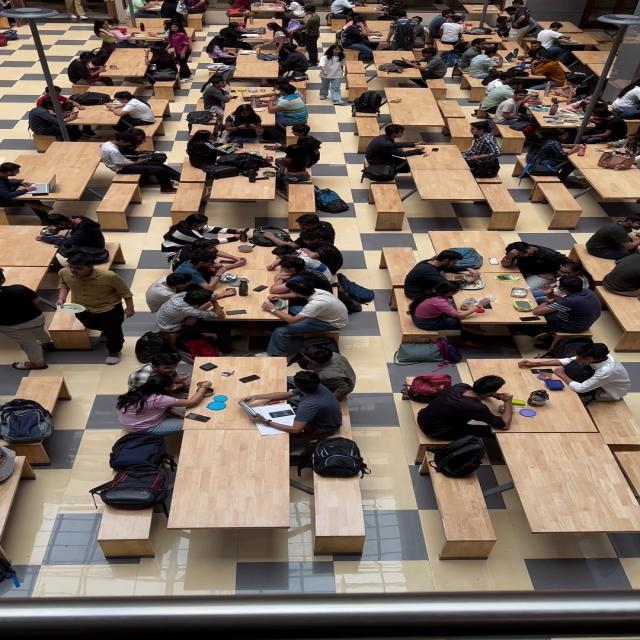Occupied: (162, 209, 375, 337), (157, 215, 373, 339), (395, 348, 640, 433), (125, 349, 362, 432), (411, 246, 609, 340), (400, 244, 606, 326), (40, 209, 141, 358), (316, 0, 451, 62), (421, 0, 582, 51), (188, 126, 334, 182), (182, 76, 318, 130), (358, 126, 506, 175), (83, 124, 185, 195), (28, 78, 161, 131), (525, 124, 640, 182), (0, 262, 56, 376), (456, 34, 582, 83), (0, 396, 70, 483), (519, 124, 640, 174), (111, 424, 174, 511), (524, 129, 640, 176), (105, 132, 187, 194), (525, 133, 640, 176), (301, 433, 392, 482), (421, 436, 503, 480), (0, 159, 65, 212), (50, 40, 130, 81), (214, 20, 305, 47), (158, 22, 190, 90), (356, 84, 398, 125), (200, 36, 239, 78), (87, 19, 144, 45), (253, 46, 285, 64)
Unoccupied: (490, 420, 640, 537), (498, 427, 640, 533), (176, 427, 302, 531), (301, 482, 384, 558), (427, 480, 506, 548), (379, 84, 458, 131), (411, 157, 481, 204), (87, 512, 168, 552), (482, 178, 528, 227), (536, 178, 583, 222), (370, 182, 408, 225), (210, 182, 280, 205), (591, 170, 640, 202), (285, 178, 322, 218), (612, 293, 640, 339), (348, 111, 379, 140), (245, 62, 285, 80)
